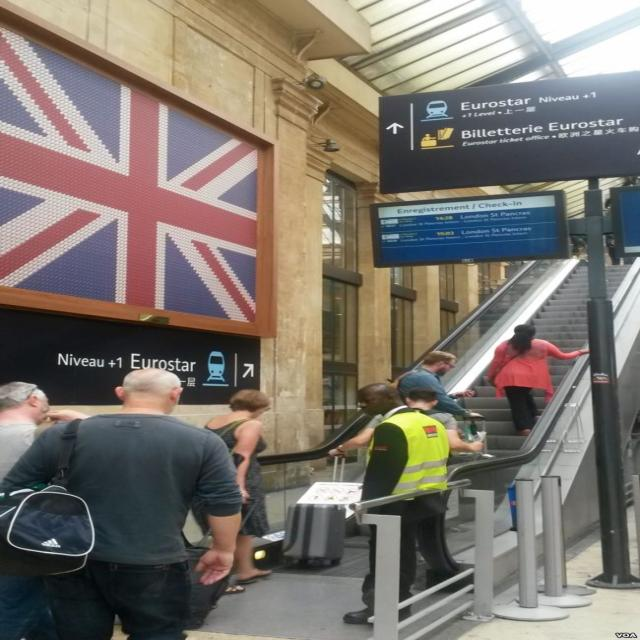body: (0, 360, 251, 640), (341, 382, 453, 627), (0, 380, 96, 640), (190, 388, 275, 596), (485, 324, 592, 436), (326, 384, 487, 458), (396, 351, 486, 419), (558, 226, 634, 262)
